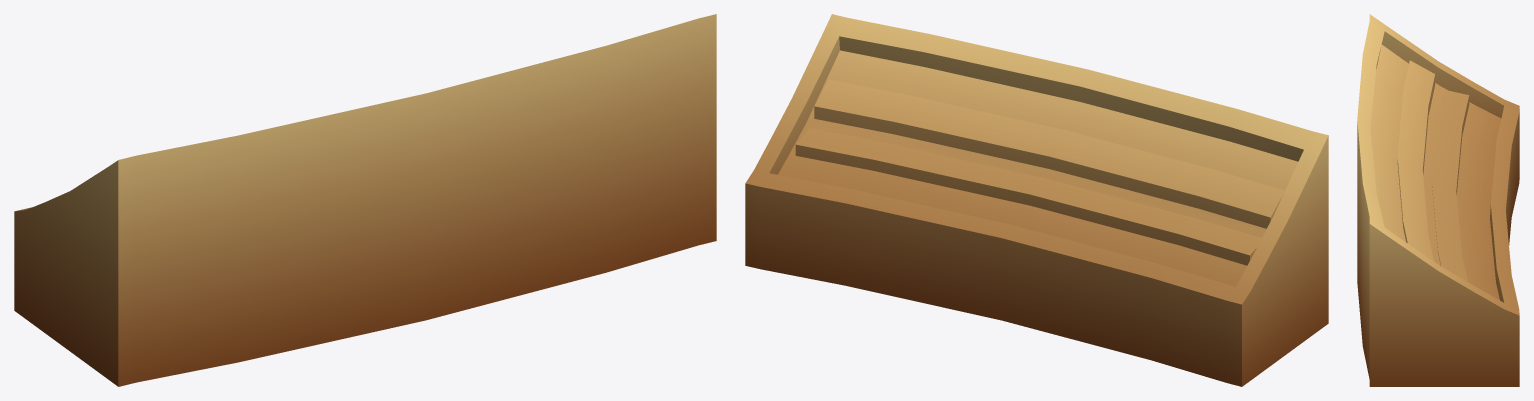
Rendered from Grada.fbx.
The picture shows the model from 3 angles, left to right: view 1: azimuth 30°, elevation 25°; view 2: azimuth 150°, elevation 25°; view 3: azimuth 270°, elevation 25°; orthographic projection. The views are drawn at different scales.
Parts seen in each view (by area): view 1: Grada; view 2: Grada; view 3: Grada.
Part boxes in pixels (x1,y1,x2,y2): Grada: (14, 14, 716, 386); Grada: (745, 14, 1328, 386); Grada: (1357, 14, 1519, 386).
Size of the model in its own units: 2160 by 783 by 707.
